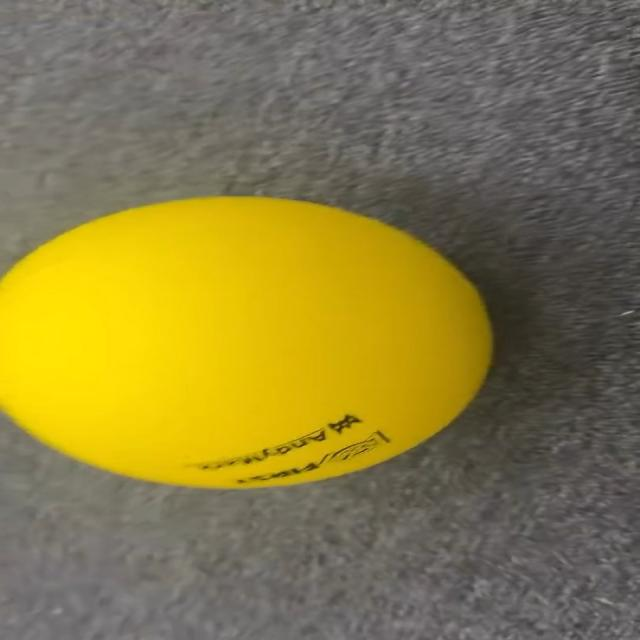Fuels: (4, 198, 495, 484)
